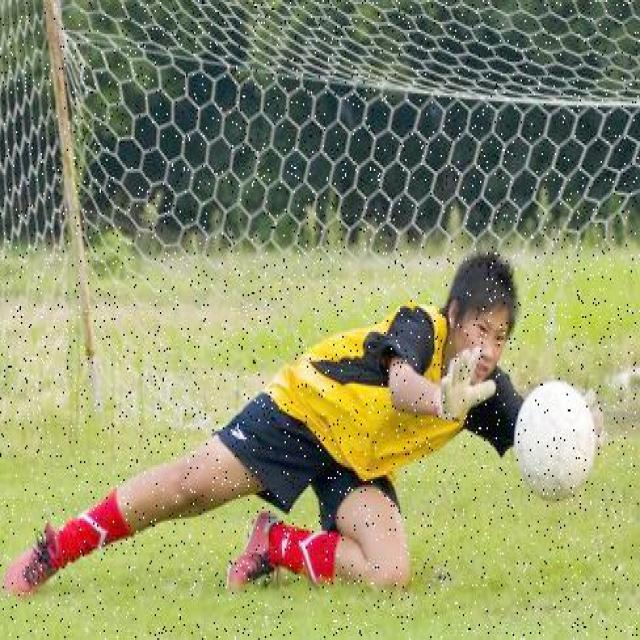fall: (19, 264, 532, 588)
